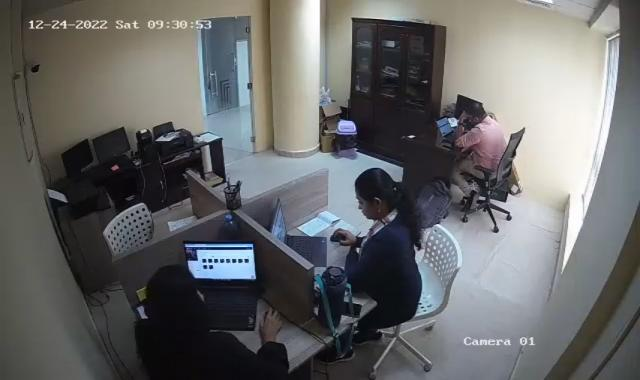no_hairnet: (147, 270, 204, 325), (351, 168, 397, 218), (468, 100, 488, 123)
